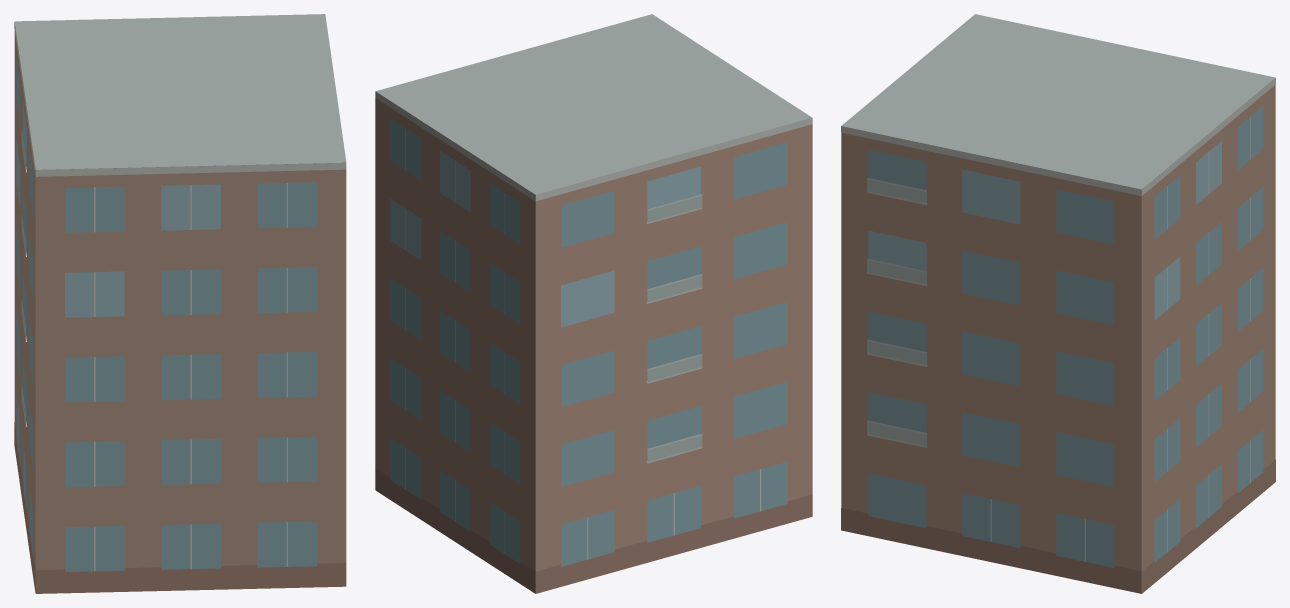
The model's file is survey-upis-32884949.glb.
3 views of the same model, side by side, from view 1: azimuth 30°, elevation 25°; view 2: azimuth 150°, elevation 25°; view 3: azimuth 270°, elevation 25° (orthographic). The views are drawn at different scales.
Visible parts, largest first — view 1: survey-upis-32884949.tmp; view 2: survey-upis-32884949.tmp; view 3: survey-upis-32884949.tmp.
Part boxes in pixels (bbox=[...]): survey-upis-32884949.tmp: bbox=[14, 14, 346, 593]; survey-upis-32884949.tmp: bbox=[375, 14, 812, 593]; survey-upis-32884949.tmp: bbox=[841, 14, 1275, 593].
Size of the model in its own units: 13.83 by 14.85 by 14.48.
